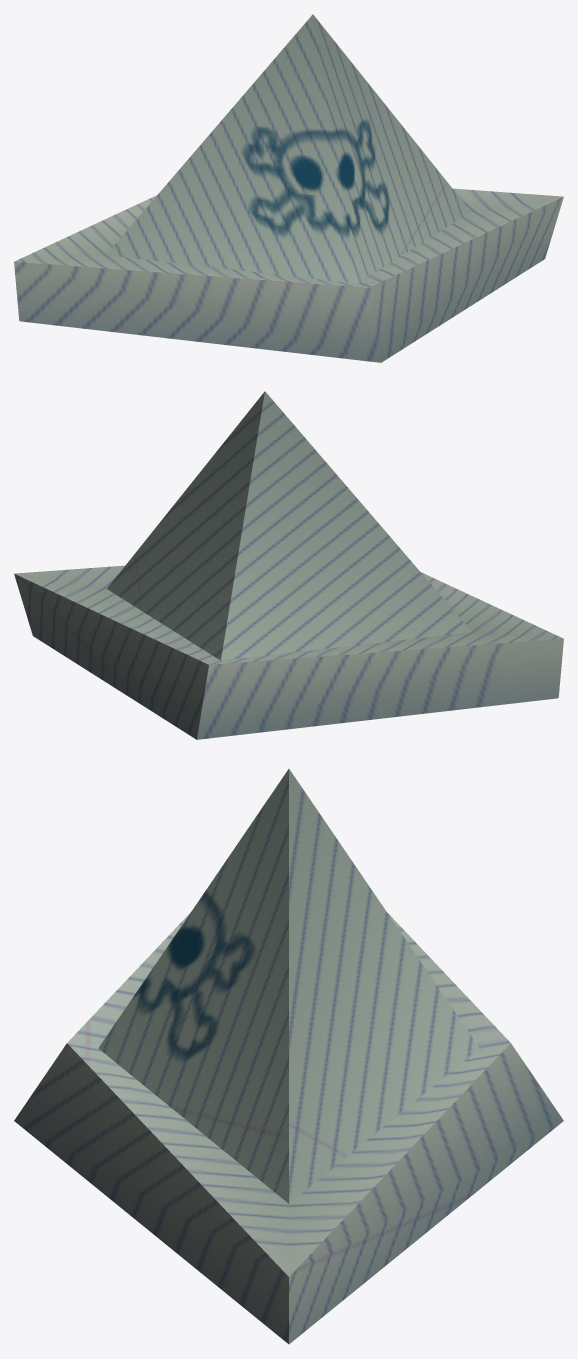
Rendered from Pirate_hat.FBX.
The picture shows the model from 3 angles, top to bottom: view 1: azimuth 30°, elevation 25°; view 2: azimuth 150°, elevation 25°; view 3: azimuth 270°, elevation 25°; orthographic projection. The views are drawn at different scales.
Parts seen in each view (by area): view 1: Pirate_hat; view 2: Pirate_hat; view 3: Pirate_hat.
Part boxes in pixels (box(x1,y1,x2,y2)): Pirate_hat: box(14, 14, 563, 362); Pirate_hat: box(14, 391, 563, 739); Pirate_hat: box(14, 769, 563, 1344).
Bounding box in the file's own units: 0.9362 × 0.4905 × 0.5838.
